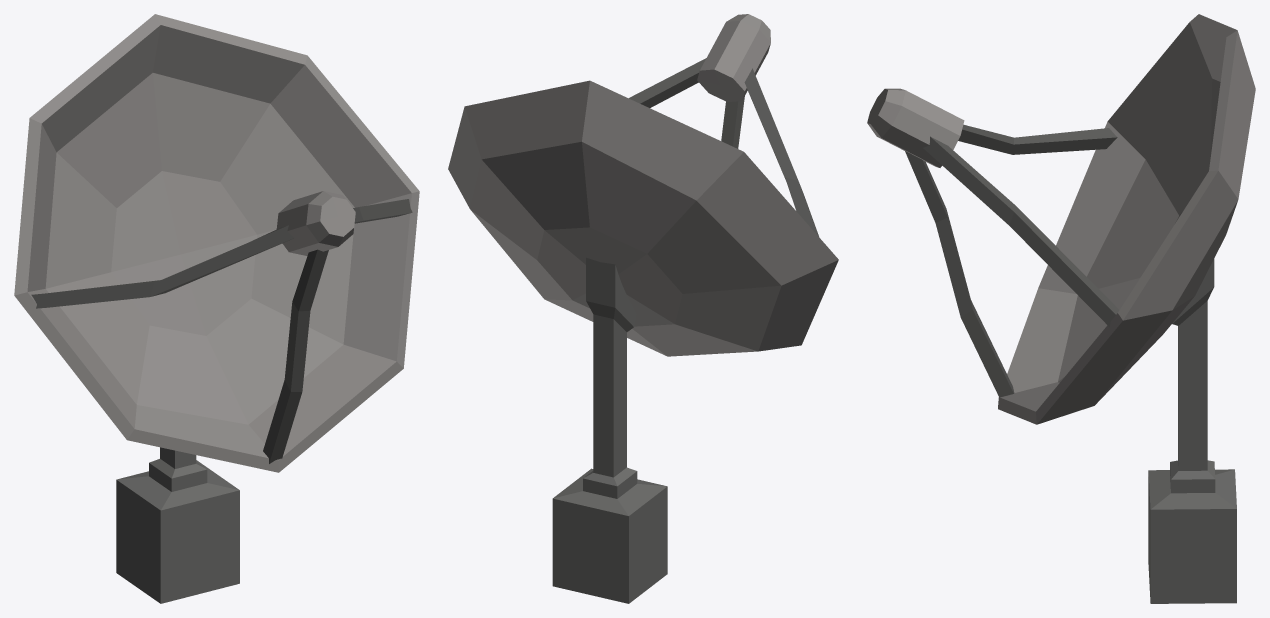
File: SM_Prop_Satellite_Dish_01.glb
3 views of the same model, side by side, from view 1: azimuth 30°, elevation 25°; view 2: azimuth 150°, elevation 25°; view 3: azimuth 270°, elevation 25° (orthographic). The views are drawn at different scales.
Parts seen in each view (by area): view 1: SM_Prop_Satellite_Dish_01; view 2: SM_Prop_Satellite_Dish_01; view 3: SM_Prop_Satellite_Dish_01.
Part boxes in pixels (bbox=[...]): SM_Prop_Satellite_Dish_01: bbox=[14, 14, 419, 603]; SM_Prop_Satellite_Dish_01: bbox=[448, 14, 838, 603]; SM_Prop_Satellite_Dish_01: bbox=[867, 14, 1255, 603].
Size of the model in its own units: 1.21 by 1.54 by 0.9808.
1 material, 1 textured.
